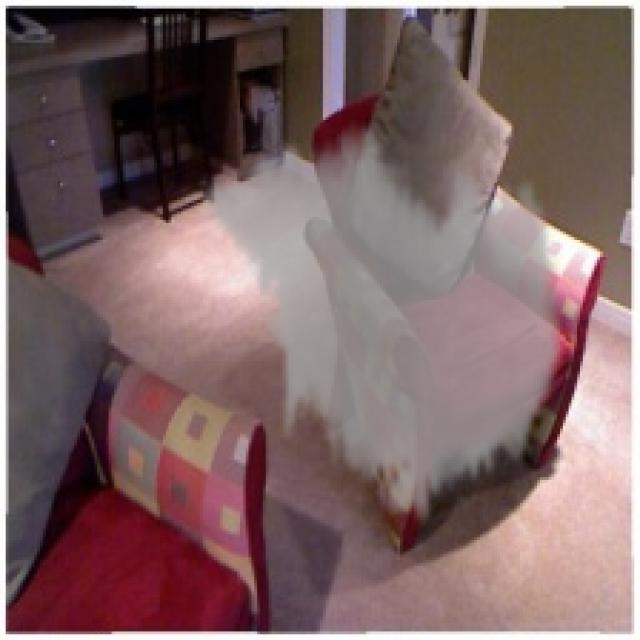smoke: (200, 111, 569, 532)
